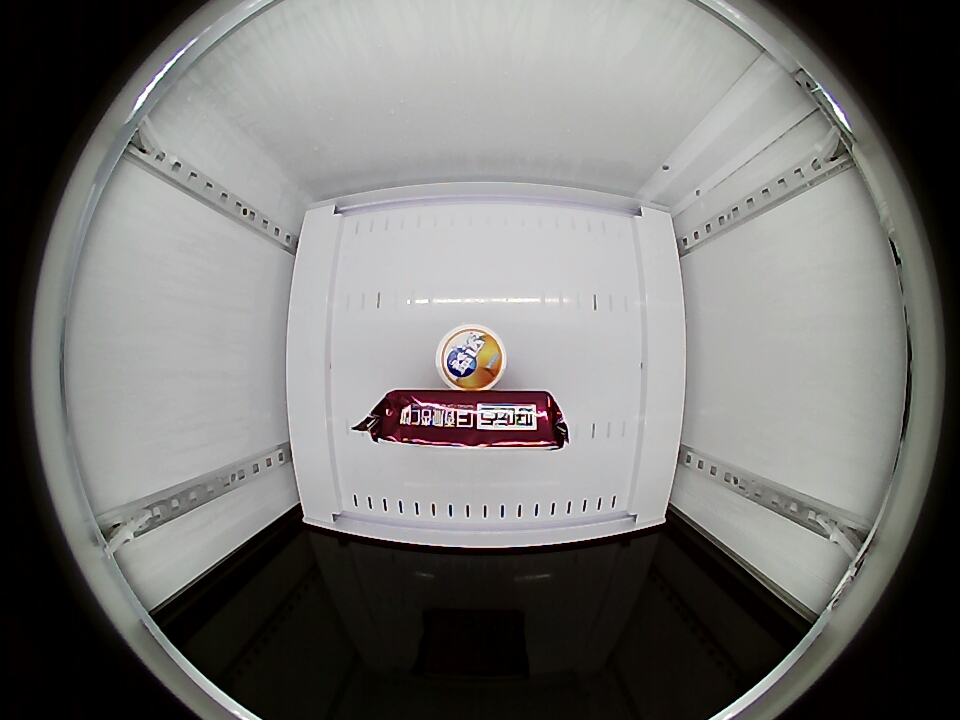haochidian: (366, 388, 569, 451)
